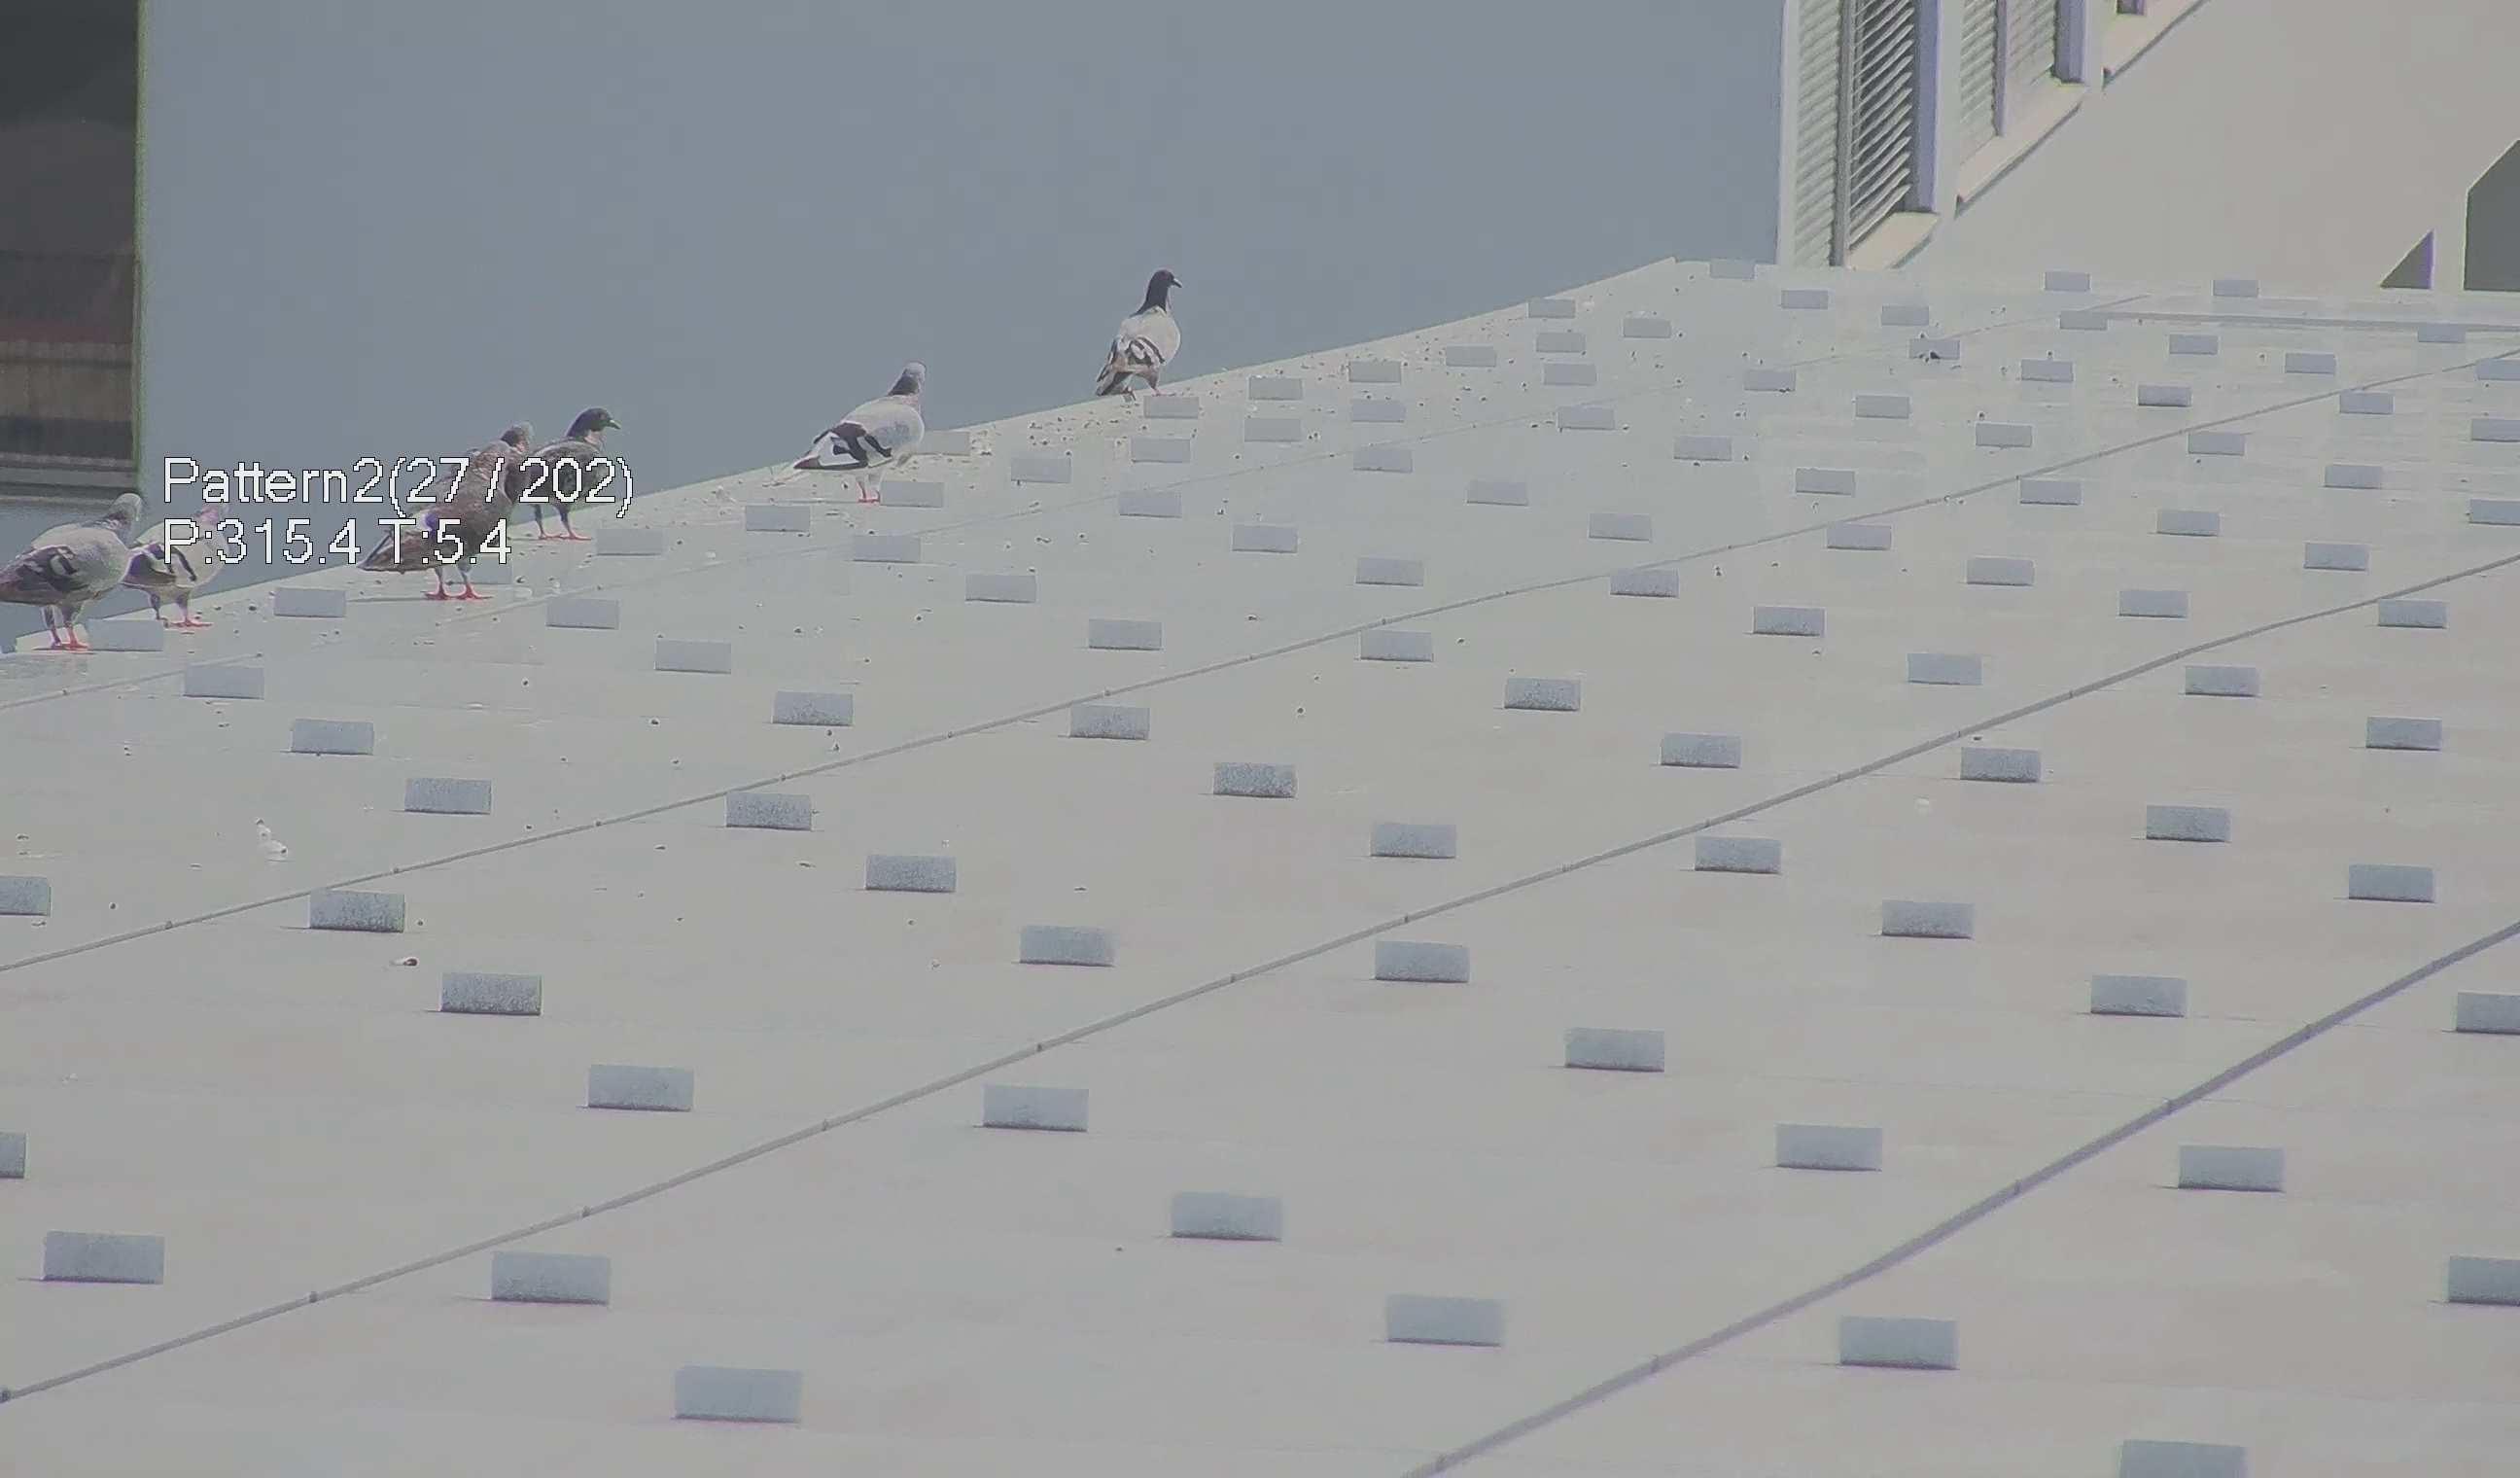Pigeon: (2, 486, 155, 655), (382, 435, 512, 607), (776, 355, 941, 489), (1071, 248, 1191, 419), (113, 500, 244, 639), (528, 392, 621, 538)
